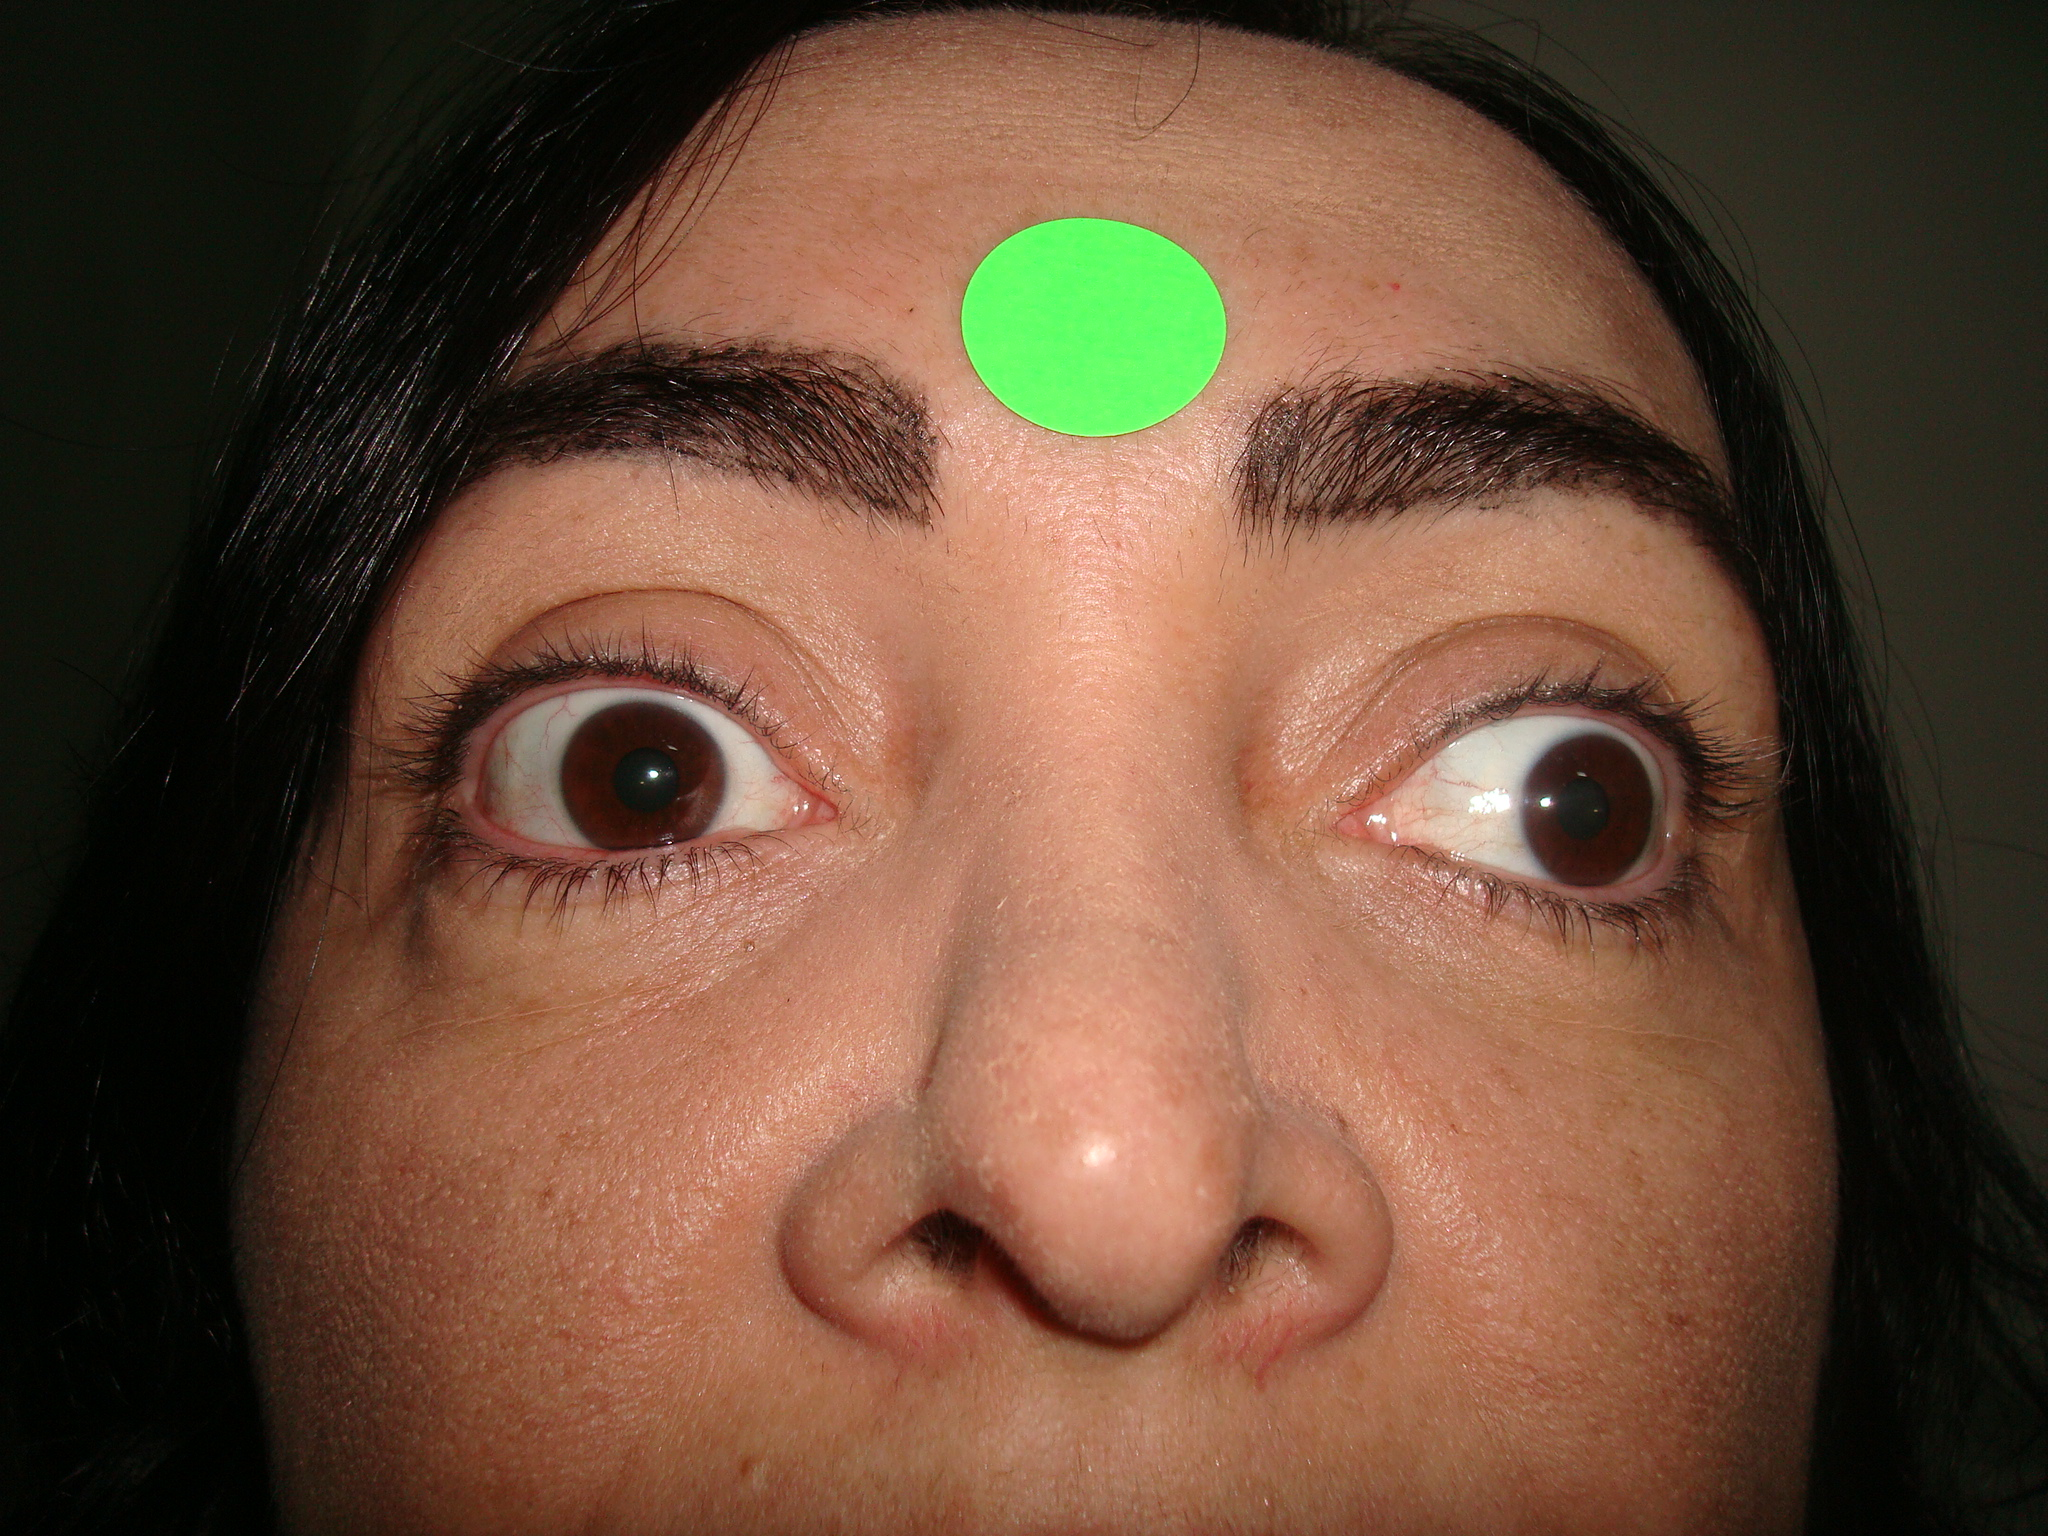flash: (645, 765, 663, 783), (1537, 794, 1553, 810)
limbo: (558, 712, 724, 849), (1524, 739, 1640, 881)
